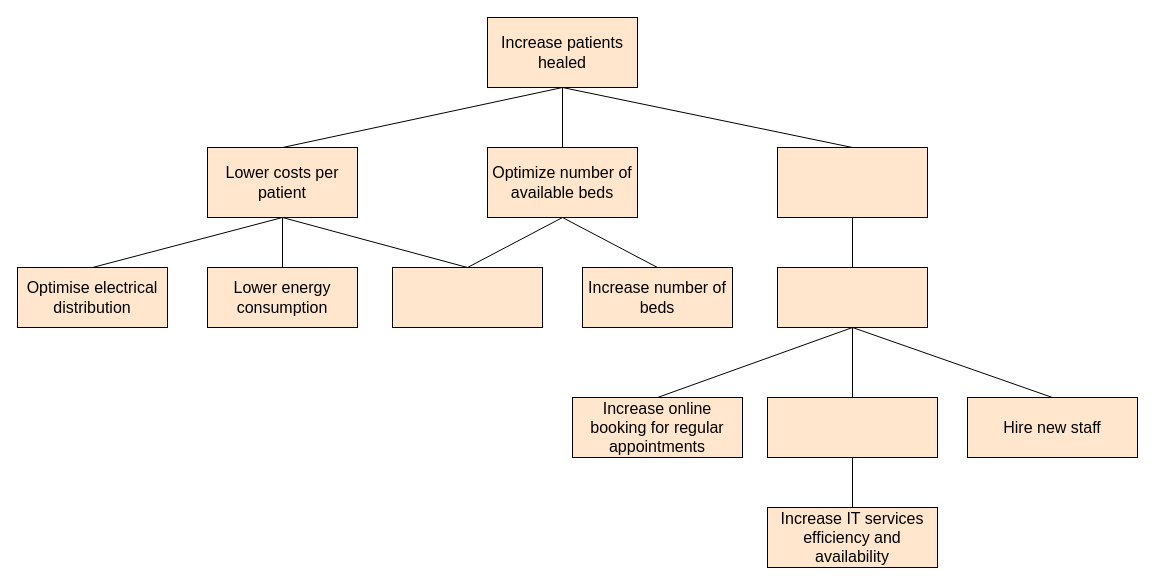
This 1155x585 diagram has some shape labels left out. The shapes that lost their labels are listed below. From the top down, each one's centre as x and y in pixels, then its label:
(x=852, y=182): Keep healthy and happy staff
(x=467, y=297): Lower average stay duration
(x=852, y=297): Lower workload
(x=852, y=427): Optimise efficiency of medical staff
